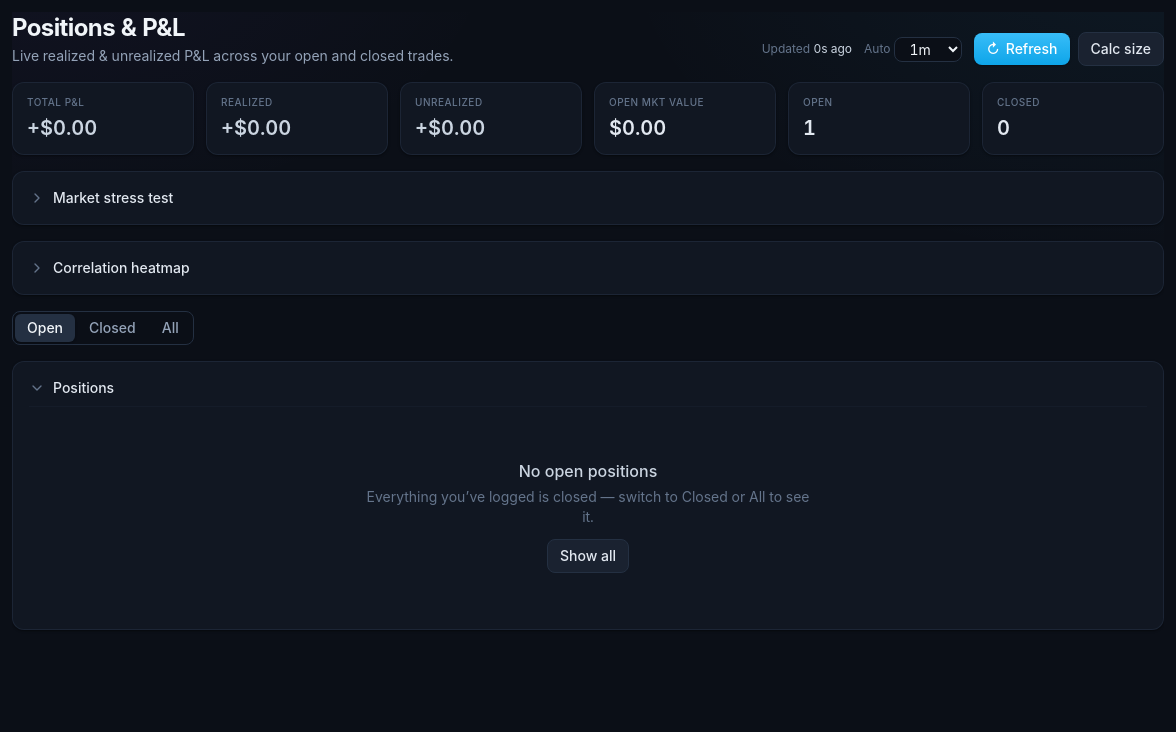
Test: PositionsPage — empty states › says the TAB is empty (not the book) when a filter hides every row
The image size is (1176, 732).
Expected: the text "No open positions" is shown, [519,461,657,481]
Note: ...and its "Show all" action actually reveals them.
Step 1. Click the button "Show all" → (588, 556), box [547,539,629,573]
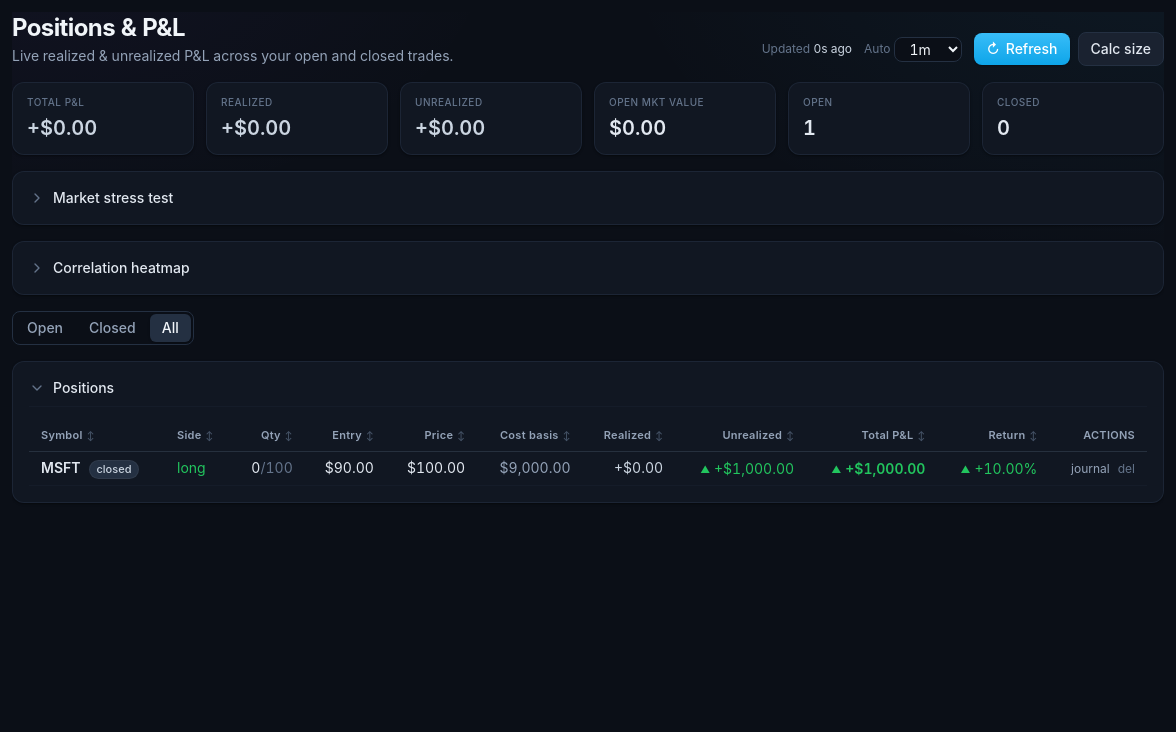
Now the link "MSFT" is shown, box [41,459,80,476]
